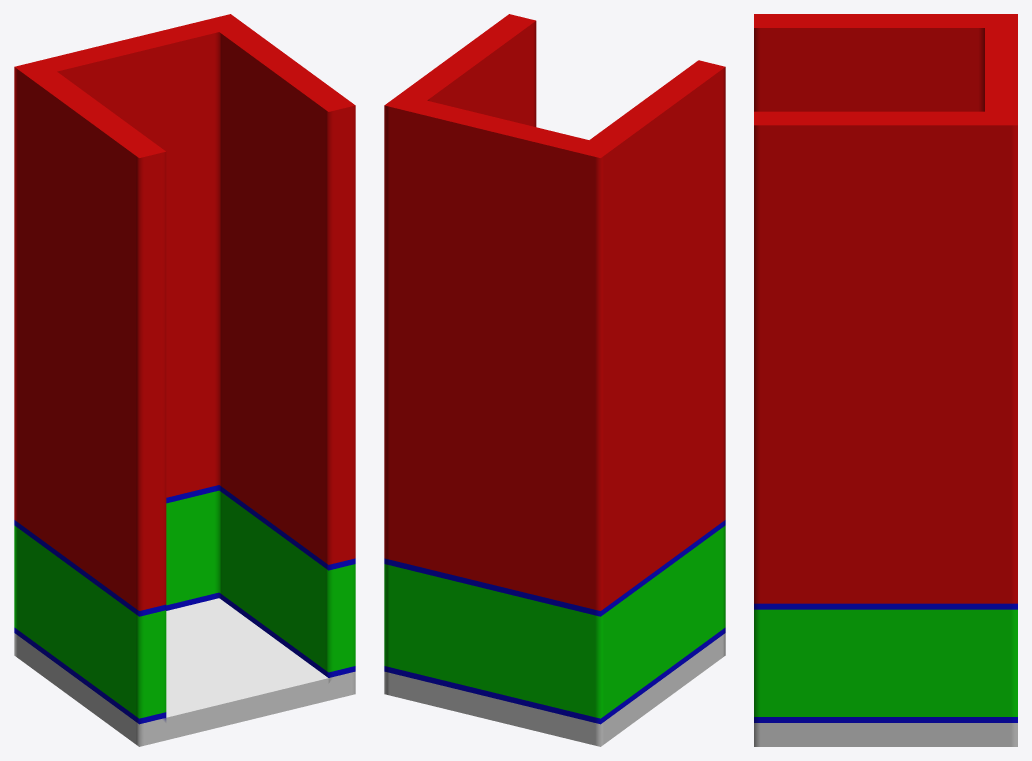
The model's file is SM_Open2x2.fbx.
3 views of the same model, side by side, from view 1: azimuth 30°, elevation 25°; view 2: azimuth 150°, elevation 25°; view 3: azimuth 270°, elevation 25° (orthographic). The views are drawn at different scales.
Visible parts, largest first — view 1: SM_Open2x2; view 2: SM_Open2x2; view 3: SM_Open2x2.
Boxes of the visible parts, left/top/right/bottom form: SM_Open2x2: left=14, top=14, right=355, bottom=746; SM_Open2x2: left=384, top=14, right=725, bottom=746; SM_Open2x2: left=754, top=14, right=1017, bottom=746.
Bounding box in the file's own units: 200 × 520 × 200.
